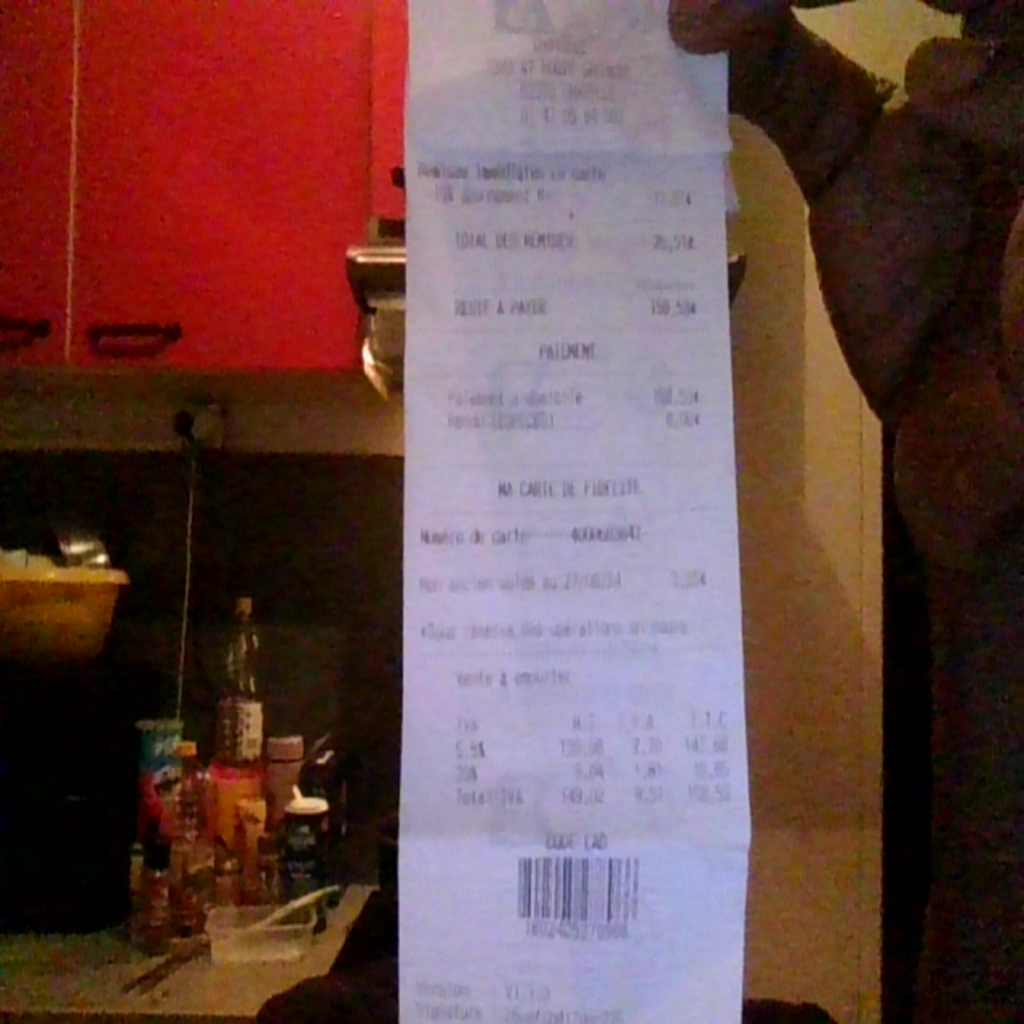recipt: (395, 2, 751, 1024)
